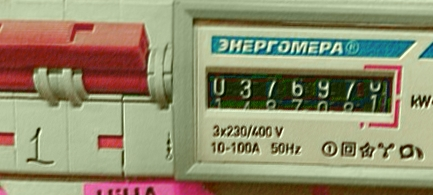0: (209, 73, 224, 95)
1: (366, 91, 377, 112)
3: (237, 77, 252, 98)
6: (288, 73, 304, 96)
7: (262, 74, 278, 98), (340, 76, 356, 99)
9: (314, 75, 329, 97)
screen: (195, 53, 405, 130)
